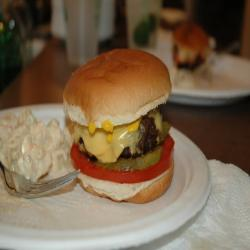burger: (60, 45, 178, 205)
